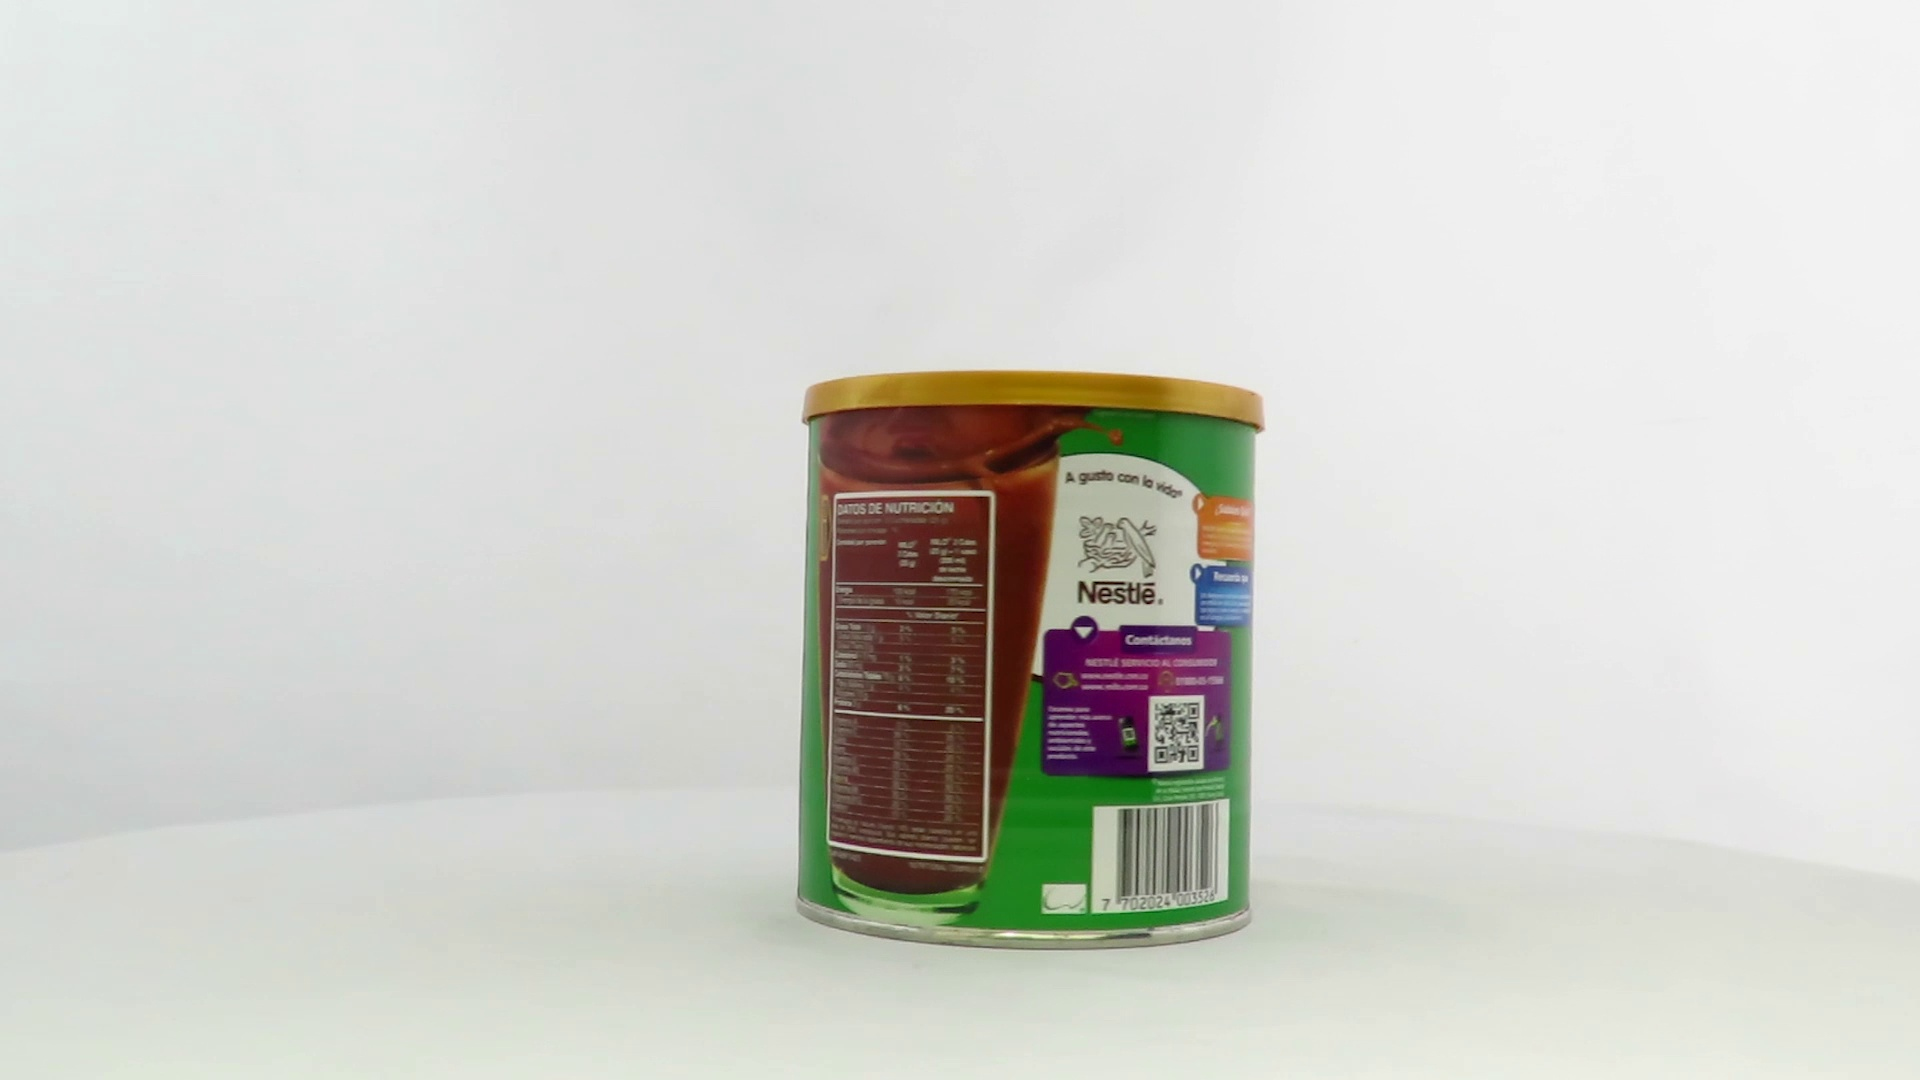COL0170203LAT40000: (790, 365, 1271, 957)
